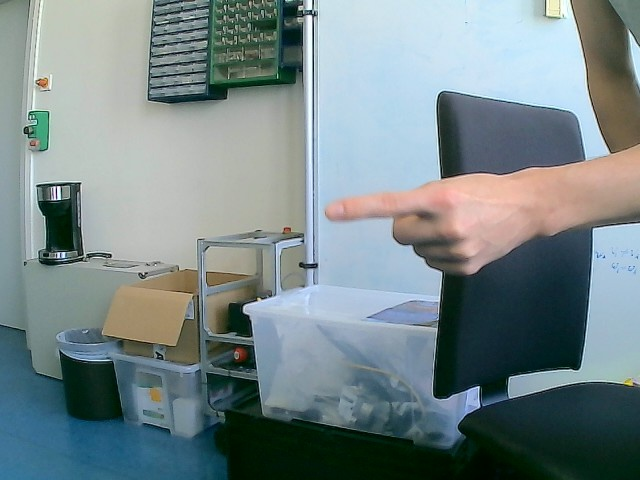right: (323, 169, 544, 278)
